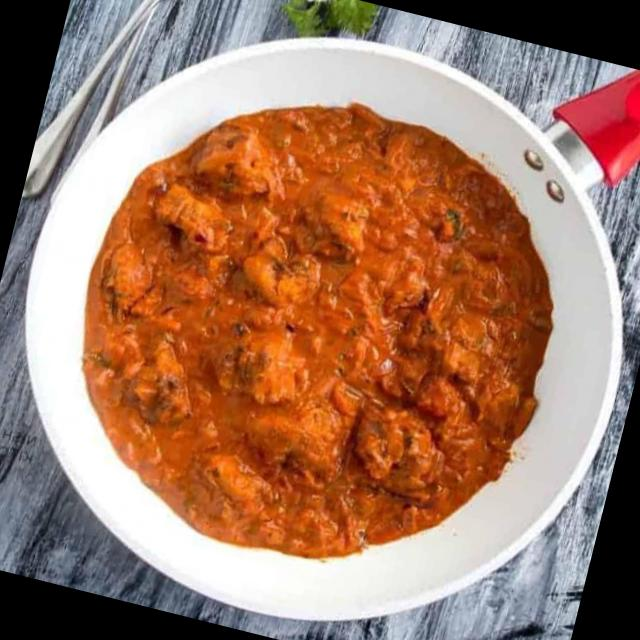chicken: (4, 45, 614, 610)
